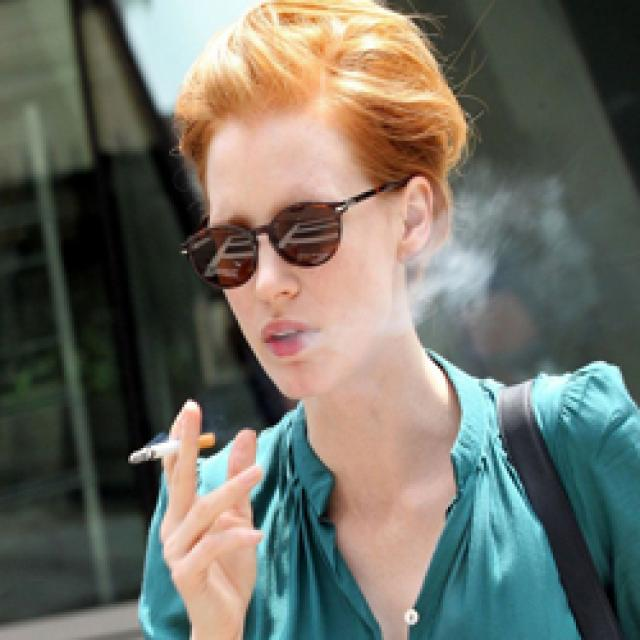Smooking: (124, 418, 223, 478)
